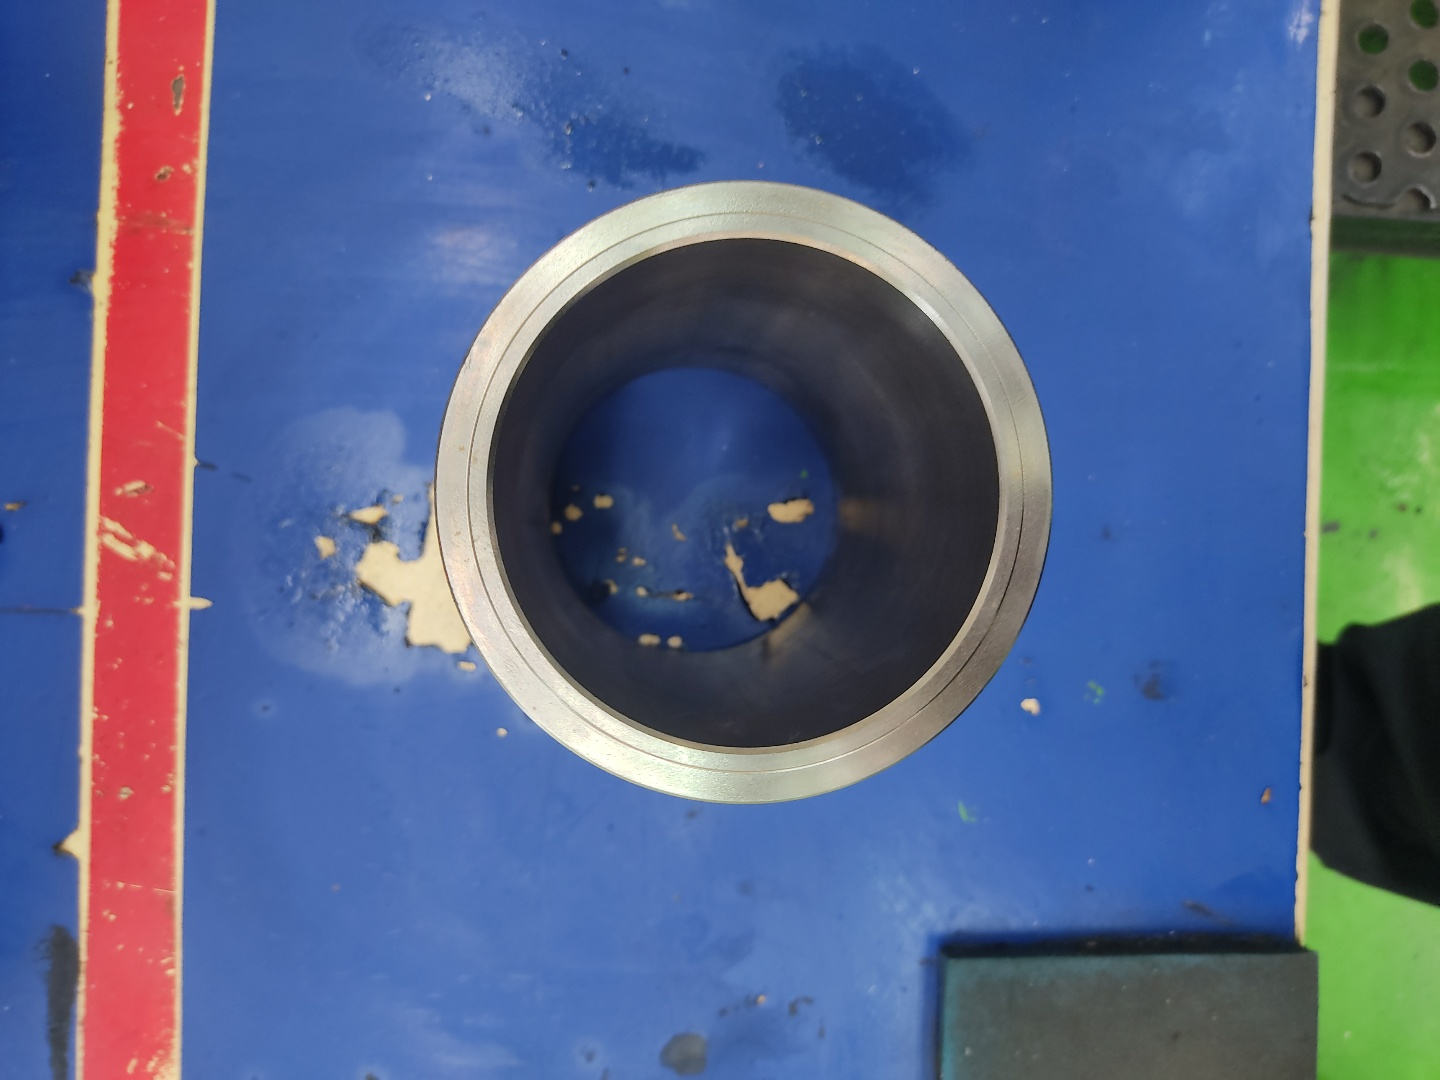cylinder: (430, 176, 1057, 810)
